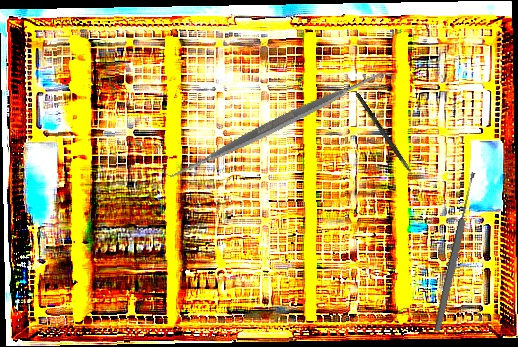Hook Surgical: (354, 92, 424, 189)
Spatula Surgical: (158, 4, 399, 245)
Surgical Spoon: (432, 171, 479, 333)
